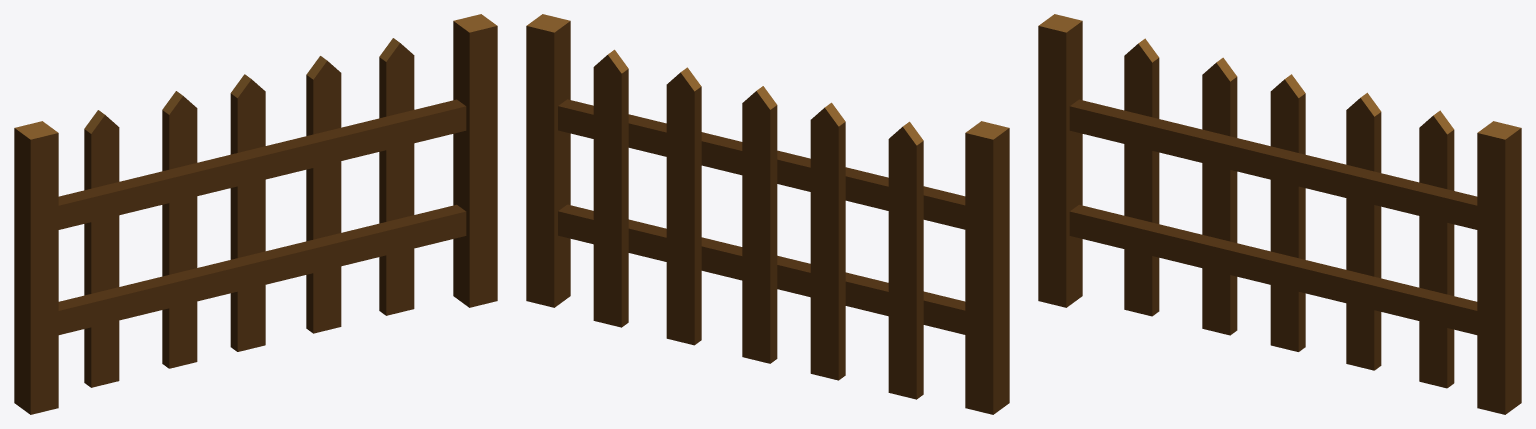
The model's file is CityFence_02_a.fbx.
3 views of the same model, side by side, from view 1: azimuth 30°, elevation 25°; view 2: azimuth 150°, elevation 25°; view 3: azimuth 330°, elevation 25° (orthographic).
Visible parts, largest first — view 1: CityFence_02_a; view 2: CityFence_02_a; view 3: CityFence_02_a.
Part boxes in pixels (x1,y1,x2,y2): CityFence_02_a: (14, 14, 497, 414); CityFence_02_a: (526, 14, 1009, 414); CityFence_02_a: (1038, 14, 1521, 414).
Bounding box in the file's own units: 0.3333 × 0.1878 × 0.0242.
